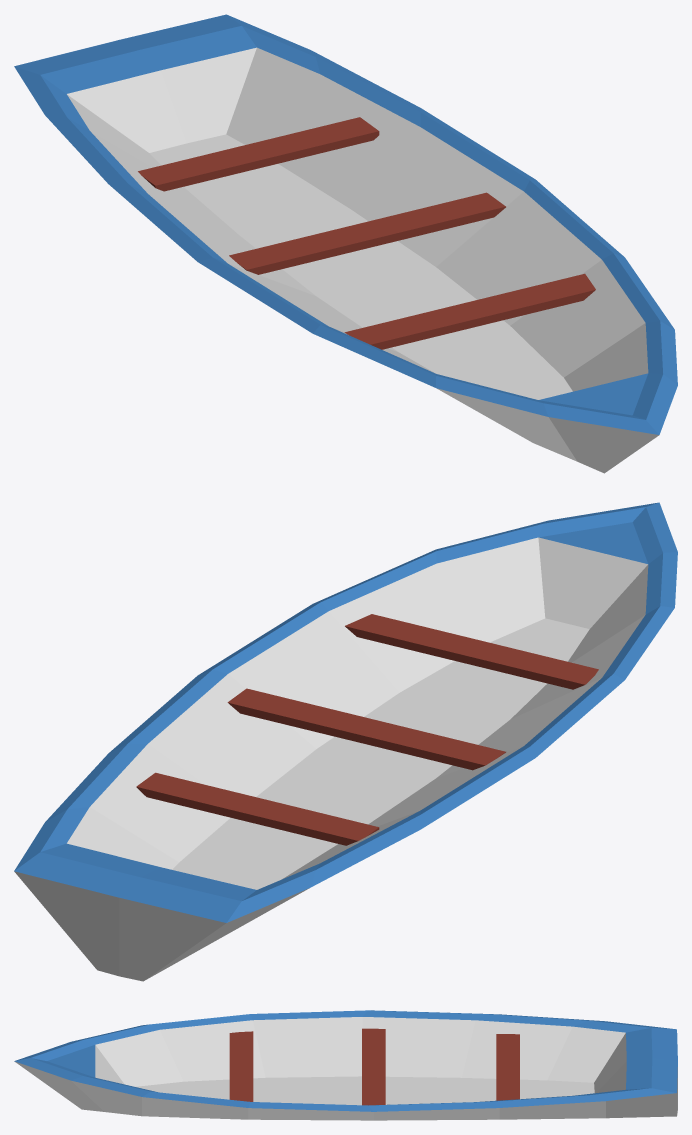
File: boat.fbx
3 views of the same model, one above another, from view 1: azimuth 30°, elevation 25°; view 2: azimuth 150°, elevation 25°; view 3: azimuth 270°, elevation 25° (orthographic). The views are drawn at different scales.
Parts seen in each view (by area): view 1: Circle, Cube, Cube.002, Cube.001; view 2: Circle, Cube, Cube.002, Cube.001; view 3: Circle, Cube, Cube.002, Cube.001.
Part boxes in pixels (box(x1,y1,x2,y2)): Circle: box(14, 14, 677, 473); Cube: box(229, 192, 505, 274); Cube.002: box(344, 273, 595, 349); Cube.001: box(138, 117, 379, 191); Circle: box(14, 502, 677, 981); Cube: box(227, 688, 505, 770); Cube.002: box(345, 614, 598, 689); Cube.001: box(136, 772, 379, 845); Circle: box(14, 1010, 677, 1120); Cube: box(362, 1028, 385, 1105); Cube.002: box(229, 1031, 253, 1101); Cube.001: box(496, 1034, 519, 1100).
Size of the model in its own units: 200 by 47.47 by 553.
